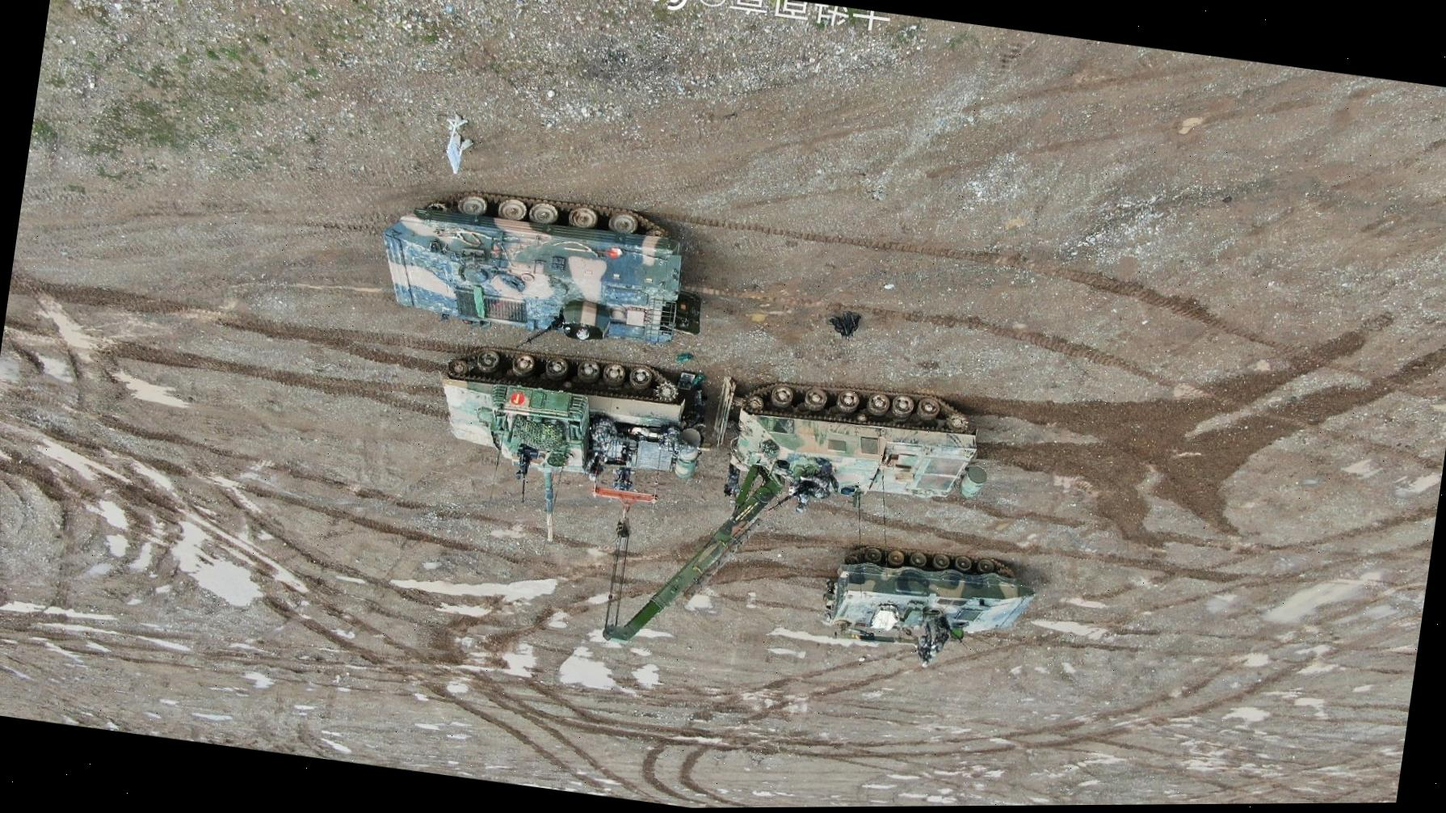armored_car: (371, 174, 720, 362), (721, 368, 1014, 530), (817, 536, 1041, 679)
tank: (428, 333, 715, 562)
